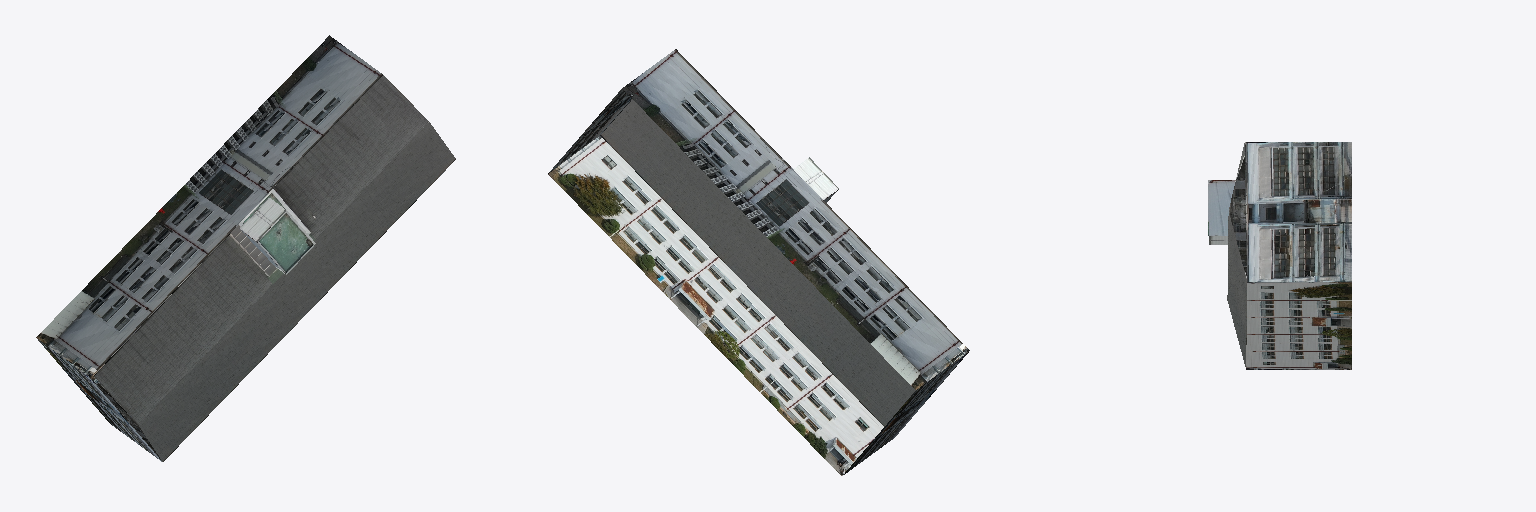
The picture shows the model from 3 angles: view 1: azimuth 30°, elevation 25°; view 2: azimuth 150°, elevation 25°; view 3: azimuth 270°, elevation 25°; orthographic projection.
Size of the model in its own units: 51.17 by 44.5 by 17.45.
1 materials, 1 textured.